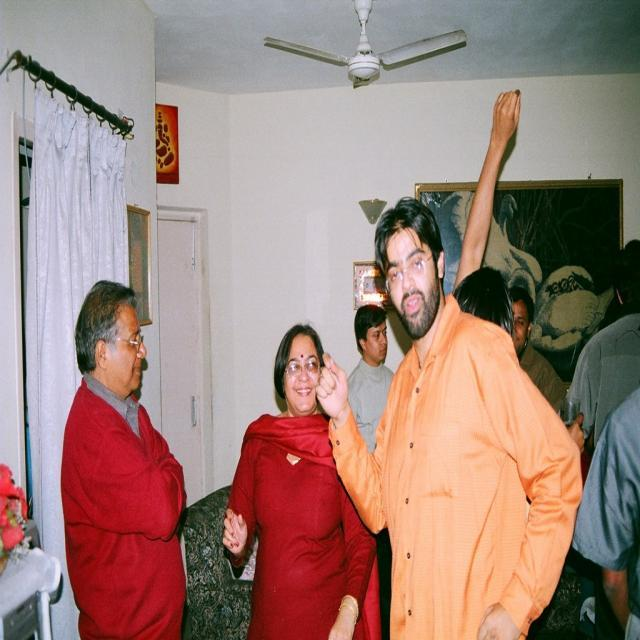fan_off: (258, 0, 471, 87)
